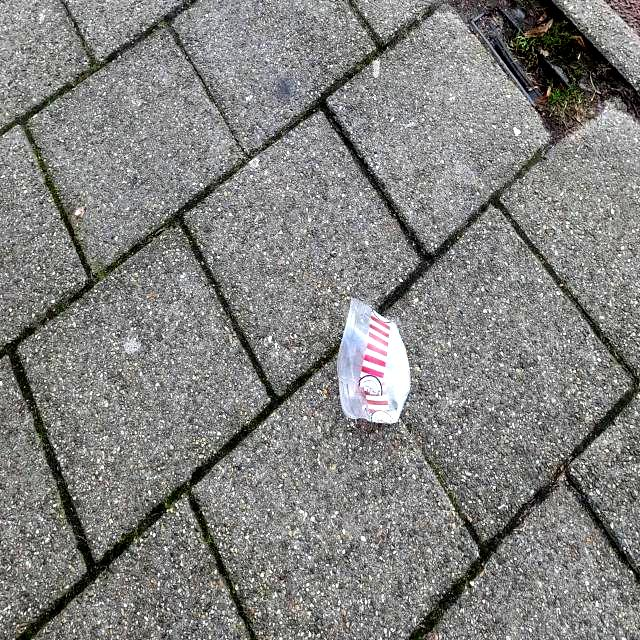Coffee Cup: (334, 292, 414, 423)
